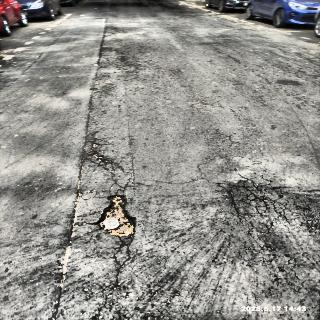alligator-crack: (217, 171, 310, 231), (80, 130, 132, 179)
crack: (85, 22, 114, 126), (48, 241, 76, 318), (105, 248, 135, 294), (58, 190, 80, 236)
pothole: (86, 192, 141, 246), (274, 78, 302, 87)
